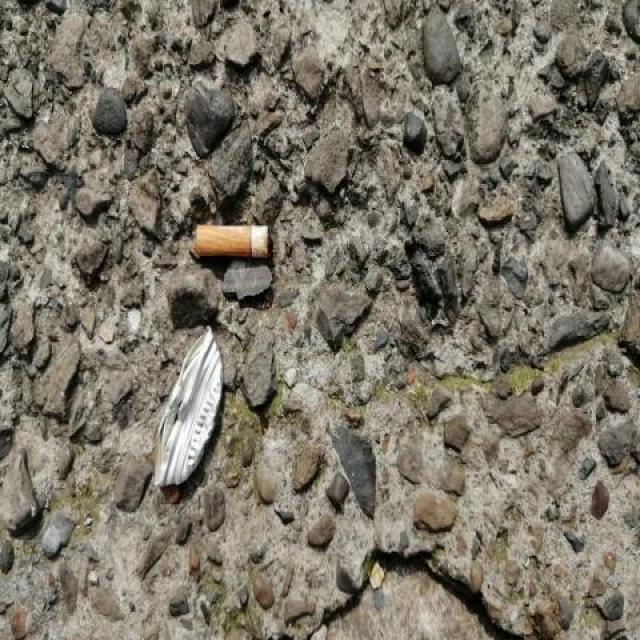non-organic waste: (193, 220, 274, 260)
